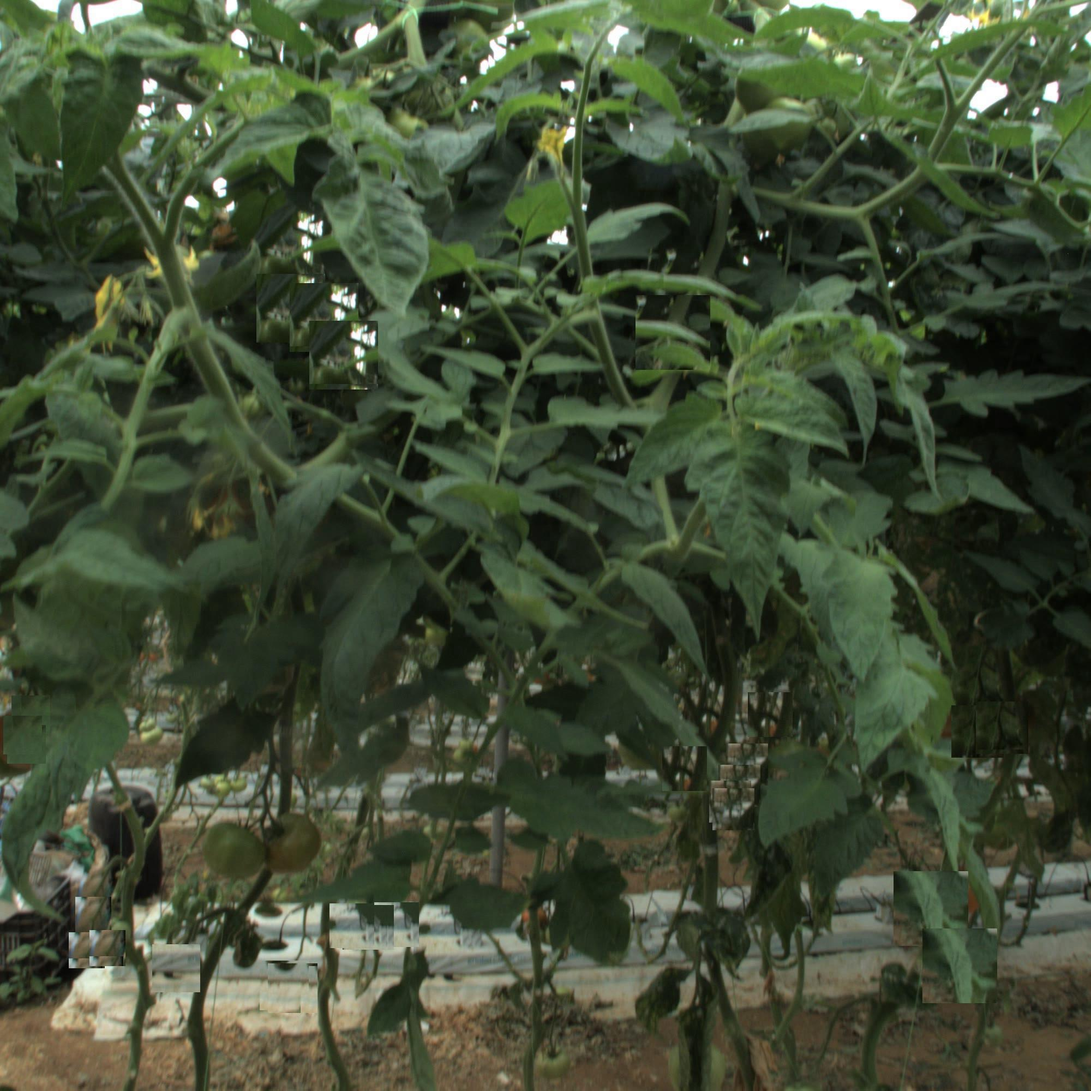['unripe', 'semi-ripe', 'fully-ripe']: (196, 818, 265, 887), (261, 814, 321, 874)
